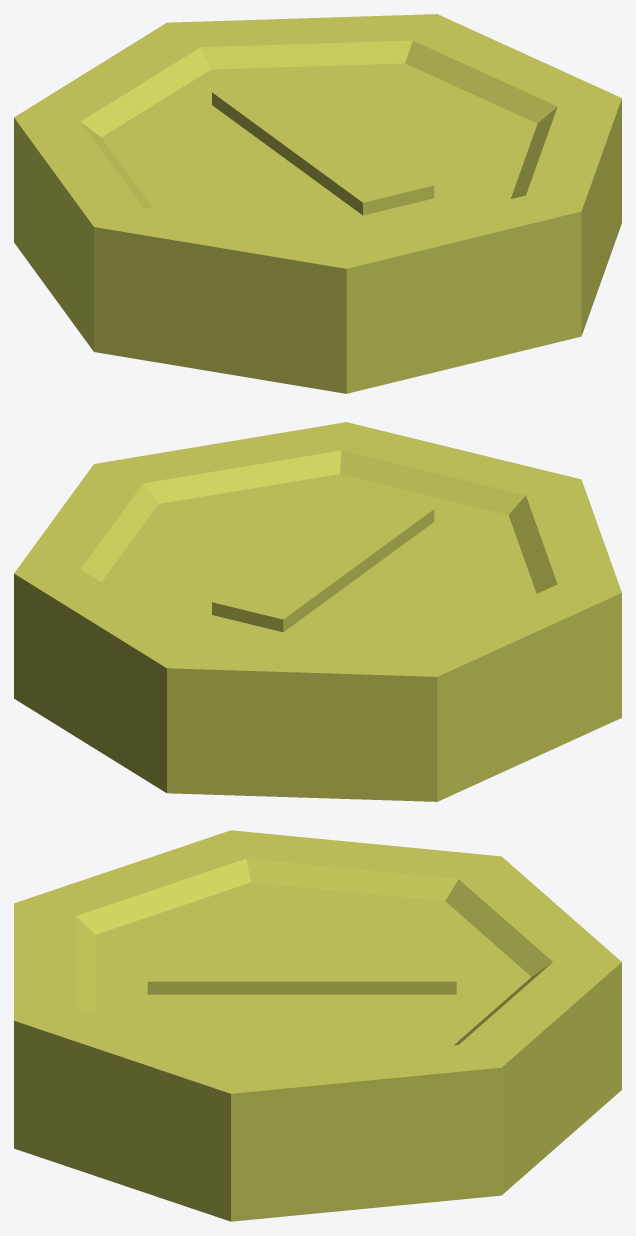
The model's file is coin.fbx.
3 renders of one model, top to bottom at view 1: azimuth 30°, elevation 25°; view 2: azimuth 150°, elevation 25°; view 3: azimuth 270°, elevation 25°, orthographic. The views are drawn at different scales.
Visible parts, largest first — view 1: coin; view 2: coin; view 3: coin.
Boxes of the visible parts, x1=… form: coin: x1=14, y1=14, x2=621, y2=393; coin: x1=14, y1=422, x2=621, y2=801; coin: x1=14, y1=830, x2=621, y2=1221.
Size of the model in its own units: 1.95 by 0.4412 by 1.9.
